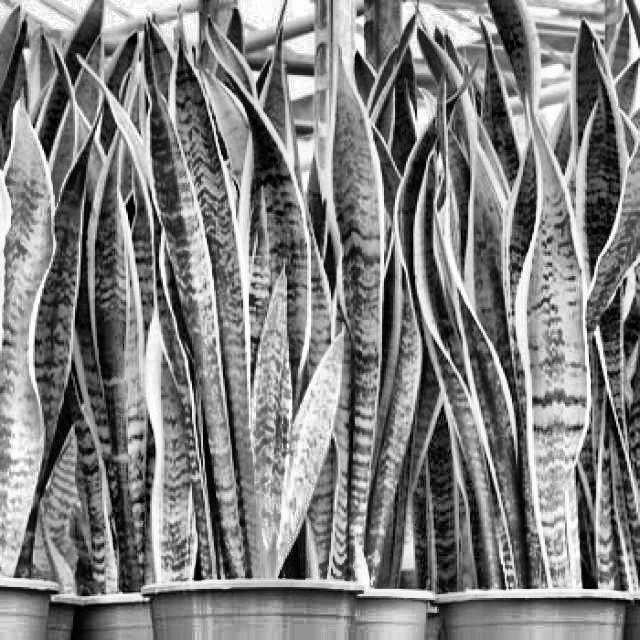plants: (117, 32, 388, 638), (406, 31, 638, 638), (2, 18, 100, 638)
